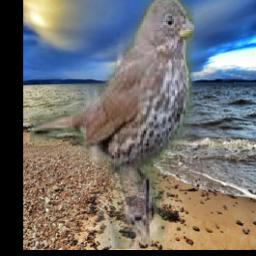Sparrow: (30, 0, 194, 249)
